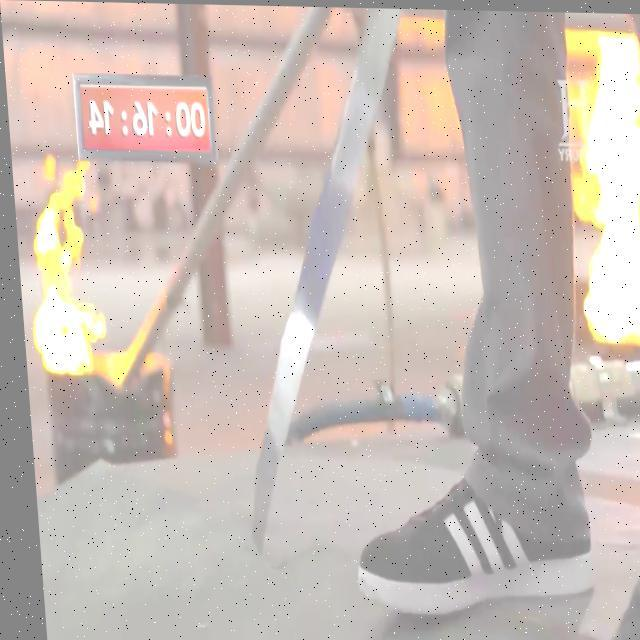Fire: (558, 28, 639, 352), (18, 160, 104, 383)
